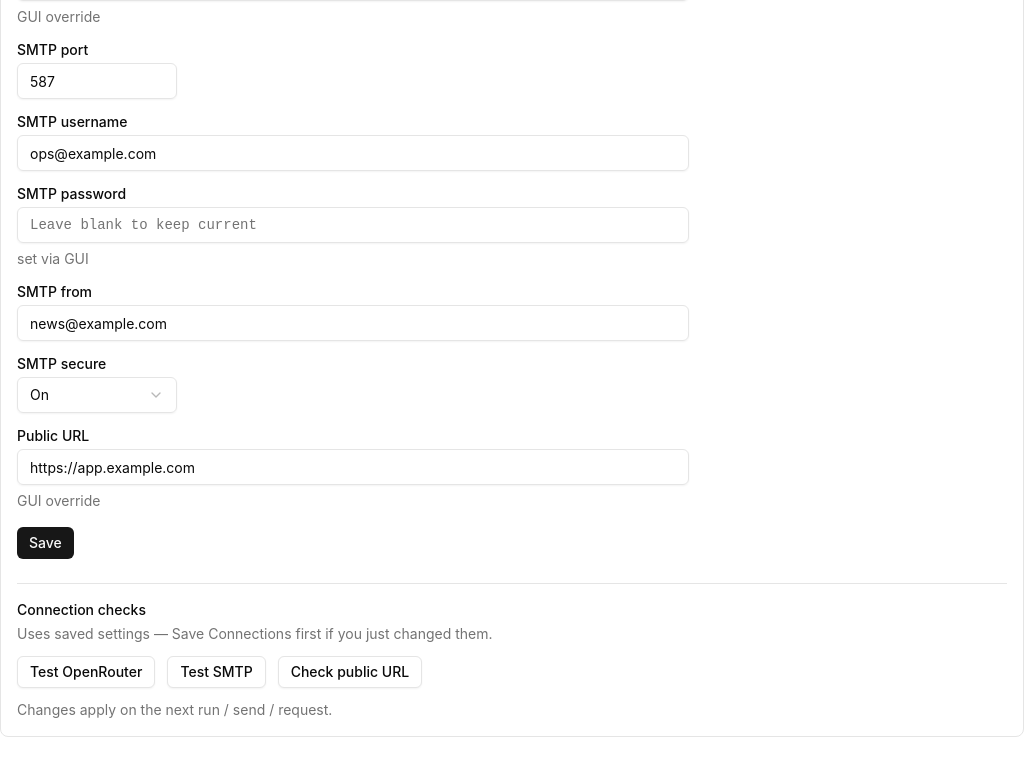
Test: ConnectionsSettings — connection diagnostics controls › toasts error on fail and shows inline Fail status
(page scrolled)
Click the button "Test SMTP" at point(217, 672), box [167,656,266,688]
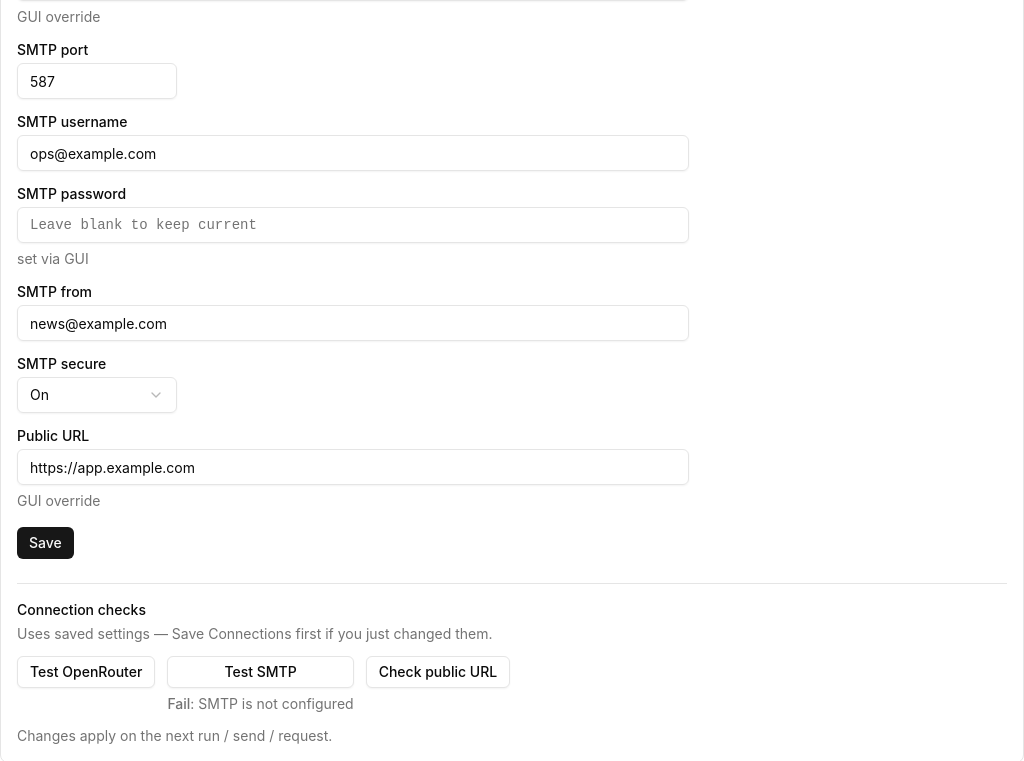
Expected: the text "Fail" is shown, [167,695,190,712]
Expected: the text "Fail: SMTP is not configured" is shown, [167,694,354,714]
